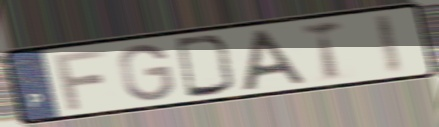A: (239, 26, 311, 93)
D: (173, 34, 238, 100)
F: (51, 47, 108, 112)
G: (117, 42, 177, 103)
I: (371, 12, 406, 77)
T: (299, 18, 347, 83)
